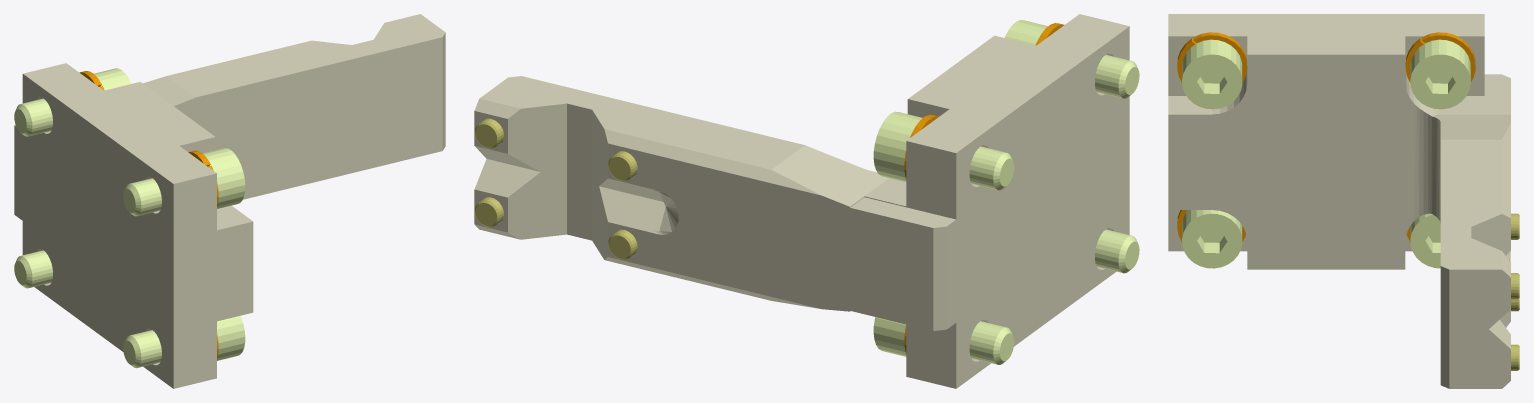
Rendered from ER9_Gripper_RC.dae.
3 renders of one model, left to right at view 1: azimuth 30°, elevation 25°; view 2: azimuth 150°, elevation 25°; view 3: azimuth 270°, elevation 25°, orthographic. The views are drawn at different scales.
Visible parts, largest first — view 1: node25; view 2: node25; view 3: node25.
Boxes of the visible parts, x1,y1,x2,y2 form: node25: [14, 14, 445, 388]; node25: [474, 14, 1139, 388]; node25: [1168, 14, 1519, 388].
Bounding box in the file's own units: 0.0592 × 0.04 × 0.028.
